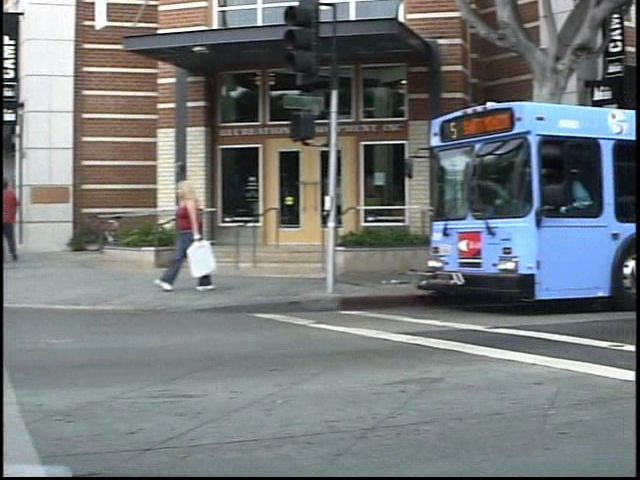person: (169, 177, 225, 298)
